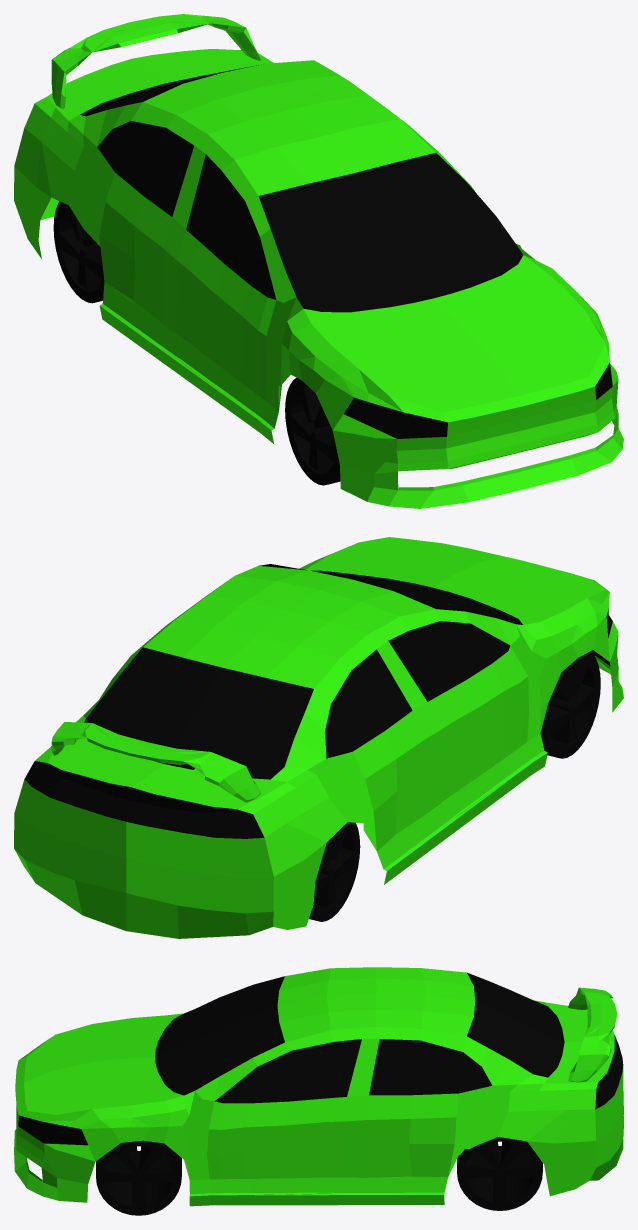
The model's file is sample4.glb.
3 views of the same model, one above another, from view 1: azimuth 30°, elevation 25°; view 2: azimuth 150°, elevation 25°; view 3: azimuth 270°, elevation 25° (orthographic). The views are drawn at different scales.
Parts seen in each view (by area): view 1: Plane, Plane.001, Cylinder.002, Cylinder.003; view 2: Plane, Plane.001, Cylinder.002, Cylinder.003; view 3: Plane, Cylinder, Cylinder.001, Plane.001.
Part boxes in pixels (box(x1,y1,x2,y2)): Plane: box(14, 49, 623, 508); Plane.001: box(51, 14, 261, 108); Cylinder.002: box(285, 377, 340, 485); Cylinder.003: box(53, 201, 104, 303); Plane: box(14, 537, 623, 938); Plane.001: box(51, 722, 261, 802); Cylinder.002: box(540, 651, 600, 758); Cylinder.003: box(309, 822, 360, 921); Plane: box(14, 967, 623, 1206); Cylinder: box(96, 1140, 181, 1215); Cylinder.001: box(457, 1137, 542, 1210); Plane.001: box(568, 987, 617, 1082).
Size of the model in its own units: 1.38 by 1.04 by 3.33.
